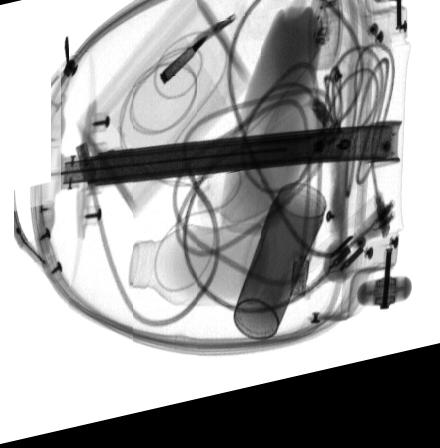Bullet: (160, 44, 208, 91)
